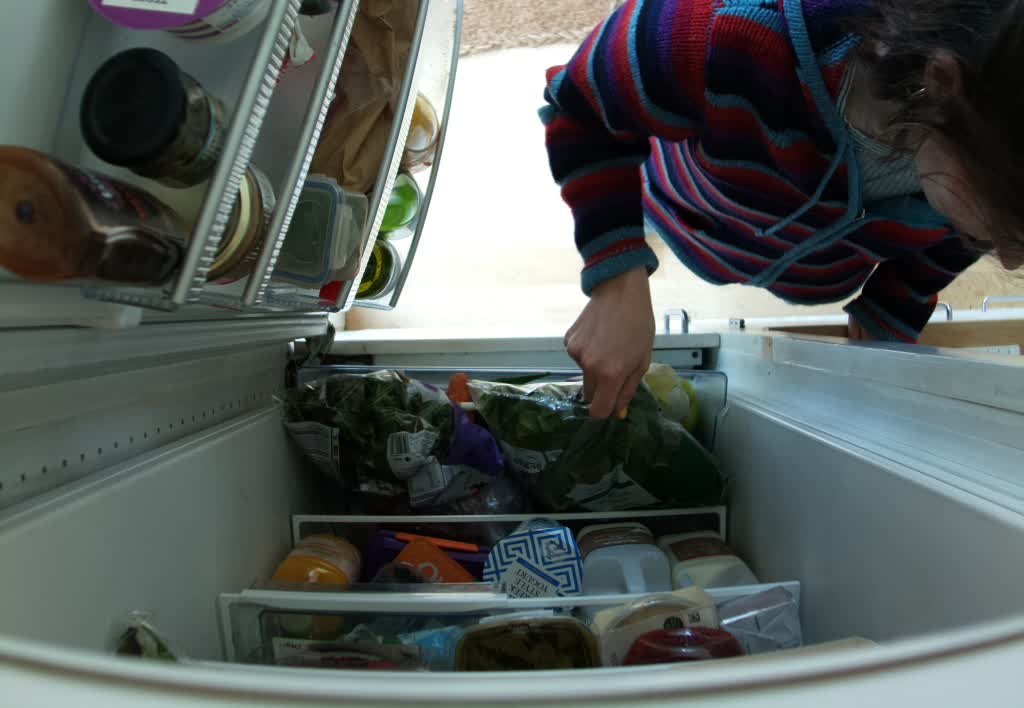salad: (475, 380, 729, 510), (282, 371, 475, 510)
